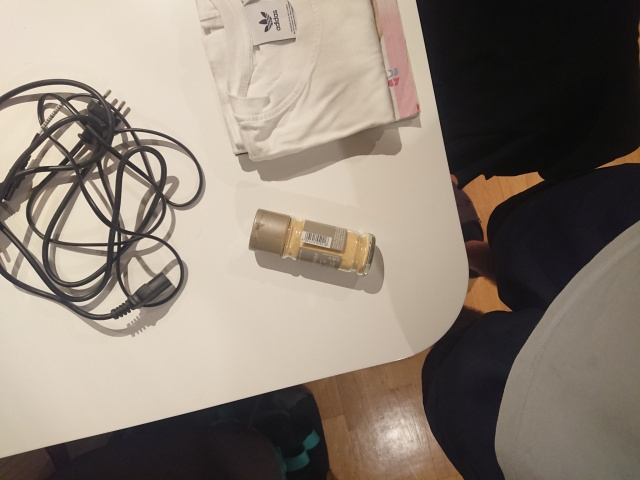Kotanyi Garlic Granules 70g: (246, 206, 378, 278)
